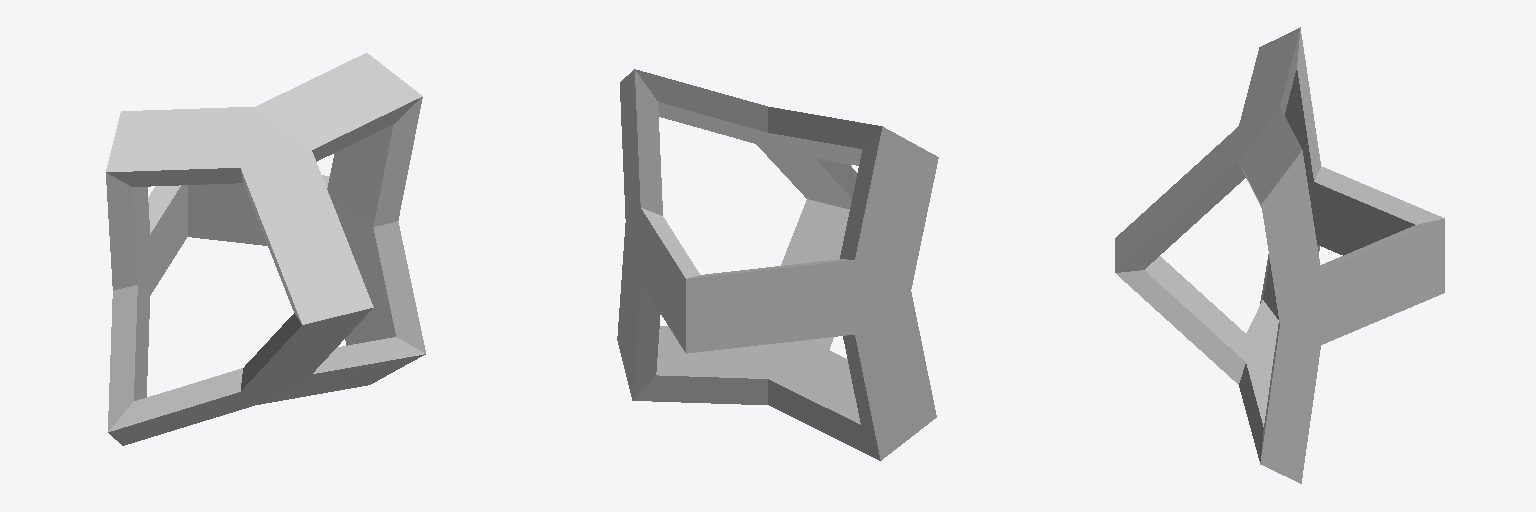
File: Hex.obj
3 views of the same model, side by side, from view 1: azimuth 30°, elevation 25°; view 2: azimuth 150°, elevation 25°; view 3: azimuth 270°, elevation 25° (orthographic).
Visible parts, largest first — view 1: Cube.001; view 2: Cube.001; view 3: Cube.001.
Part boxes in pixels (x1,y1,x2,y2): Cube.001: (106,53,425,445); Cube.001: (617,69,938,460); Cube.001: (1115,27,1444,483).
Bounding box in the file's own units: 2.25 × 2.24 × 2.